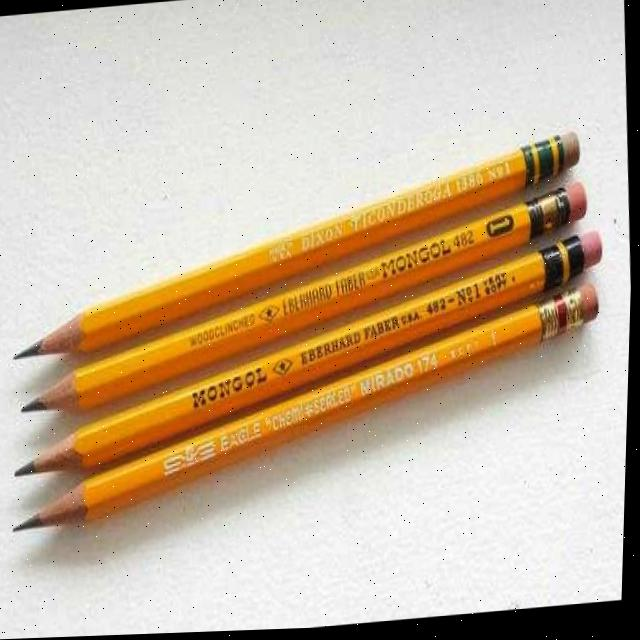pencil: (5, 272, 619, 570), (7, 221, 611, 508), (17, 165, 600, 451), (5, 111, 596, 389)
